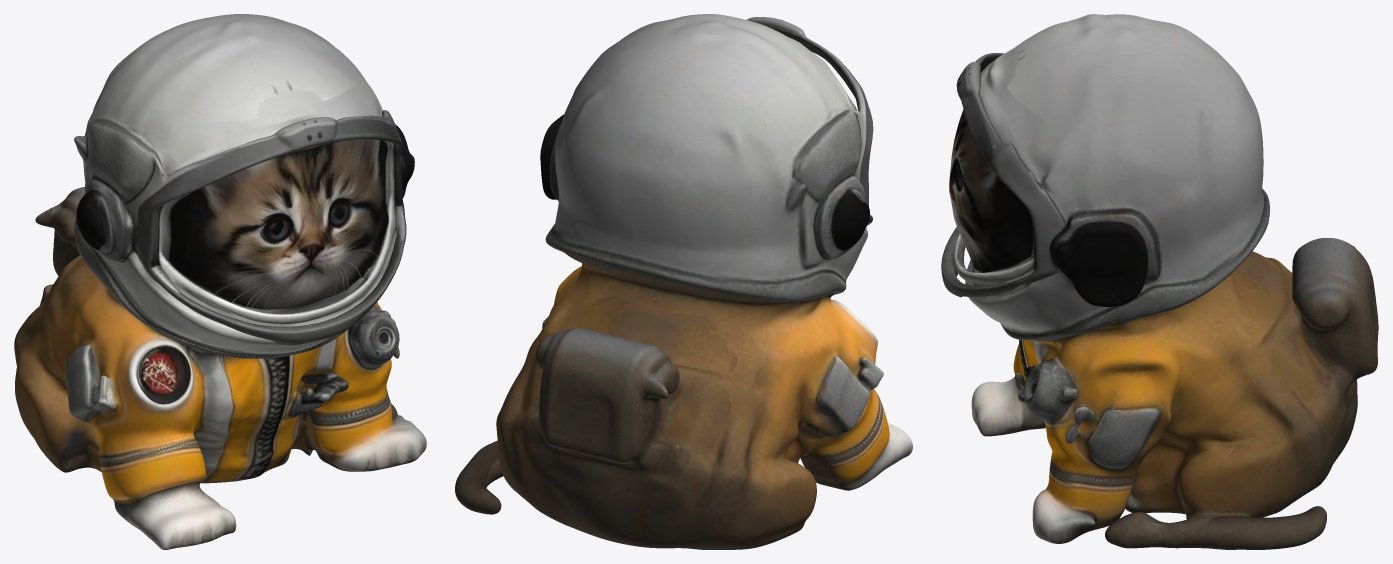
File: cat_legendary.glb
3 views of the same model, side by side, from view 1: azimuth 30°, elevation 25°; view 2: azimuth 150°, elevation 25°; view 3: azimuth 270°, elevation 25° (orthographic).
Parts seen in each view (by area): view 1: mesh_node; view 2: mesh_node; view 3: mesh_node.
Boxes of the visible parts, x1,y1,x2,y2 form: mesh_node: (14,14,426,549); mesh_node: (455,14,912,549); mesh_node: (941,14,1378,549).
Size of the model in its own units: 1.48 by 1.9 by 1.7.
1 material, 1 textured.
